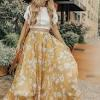skirt: (11, 29, 80, 100)
